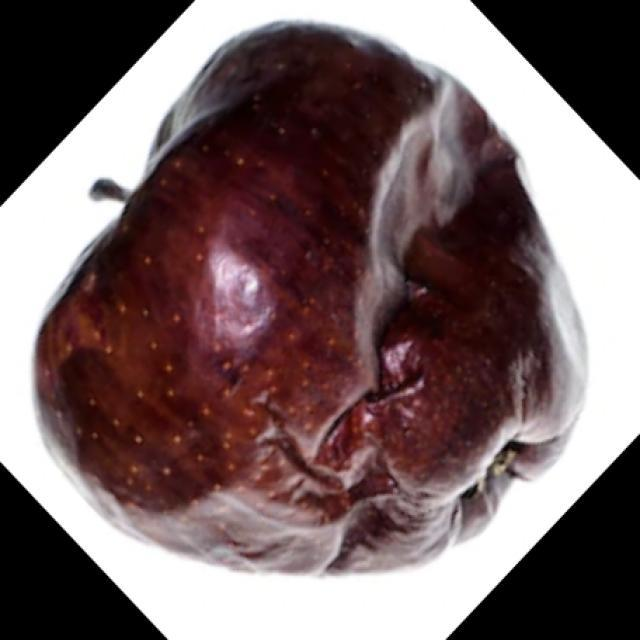Rotten: (80, 43, 580, 565)
